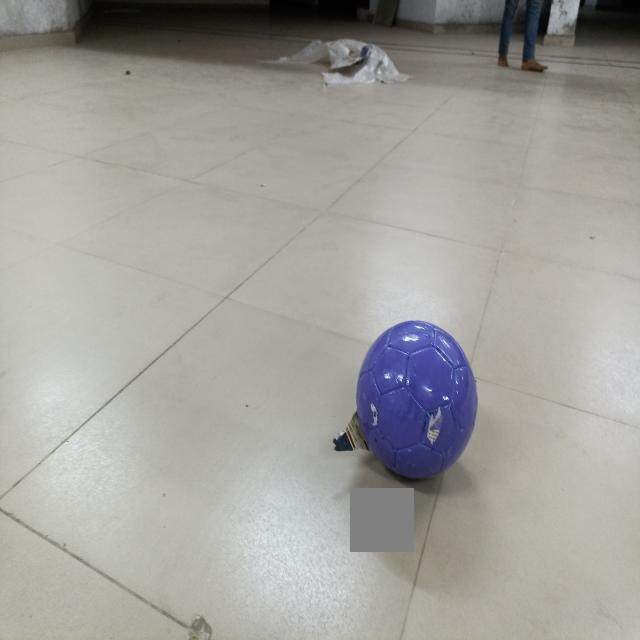purple_ball: (351, 306, 484, 492)
